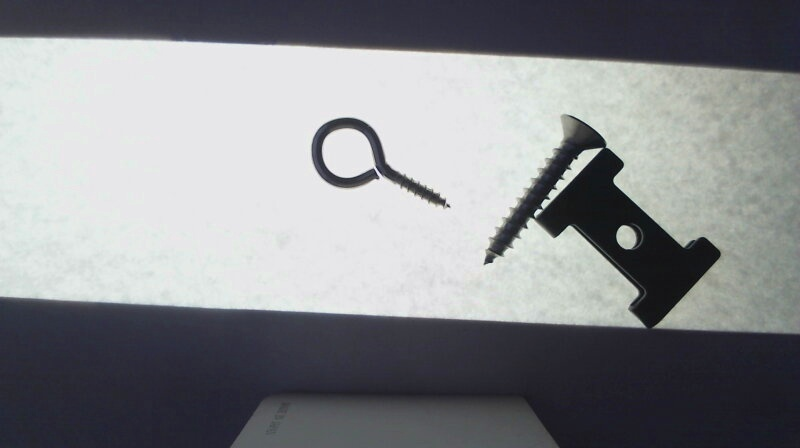O001: (310, 114, 452, 210)
O002: (532, 143, 721, 333)
S001: (482, 110, 610, 266)
